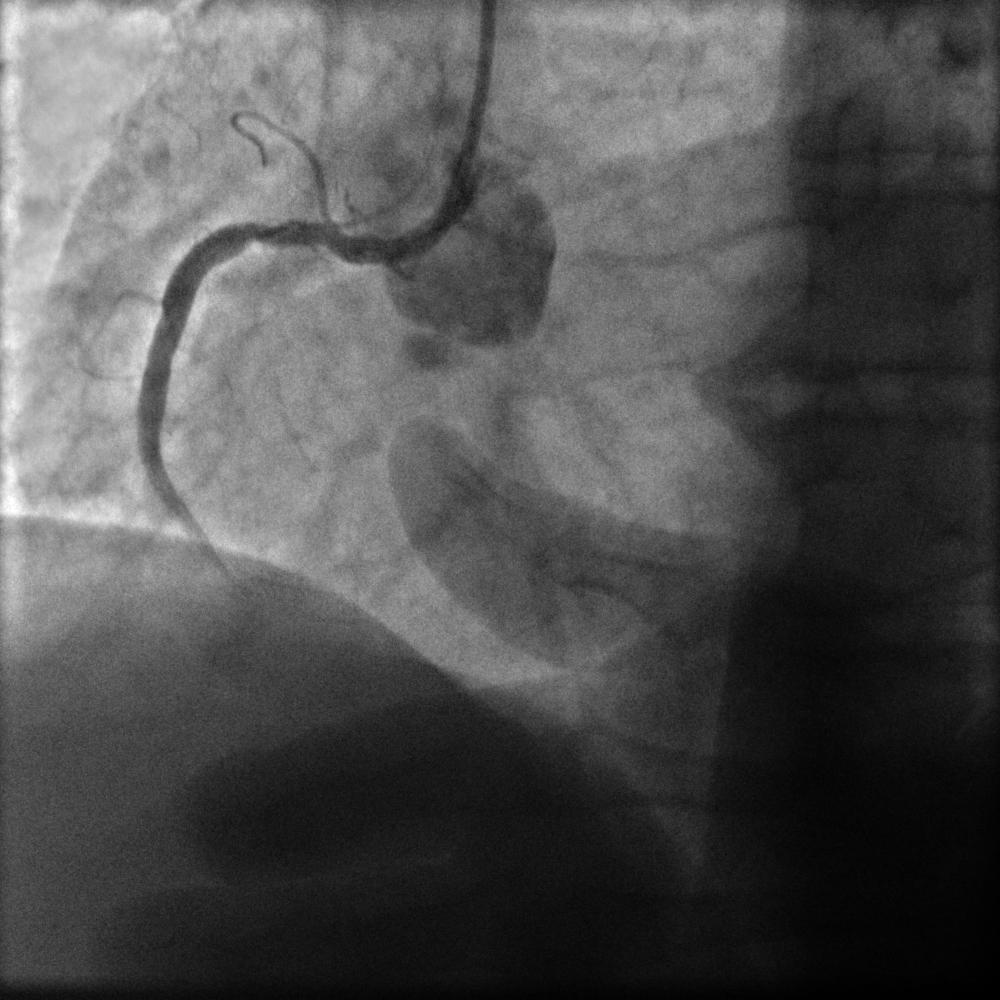Stenosis: (246, 207, 379, 264)
